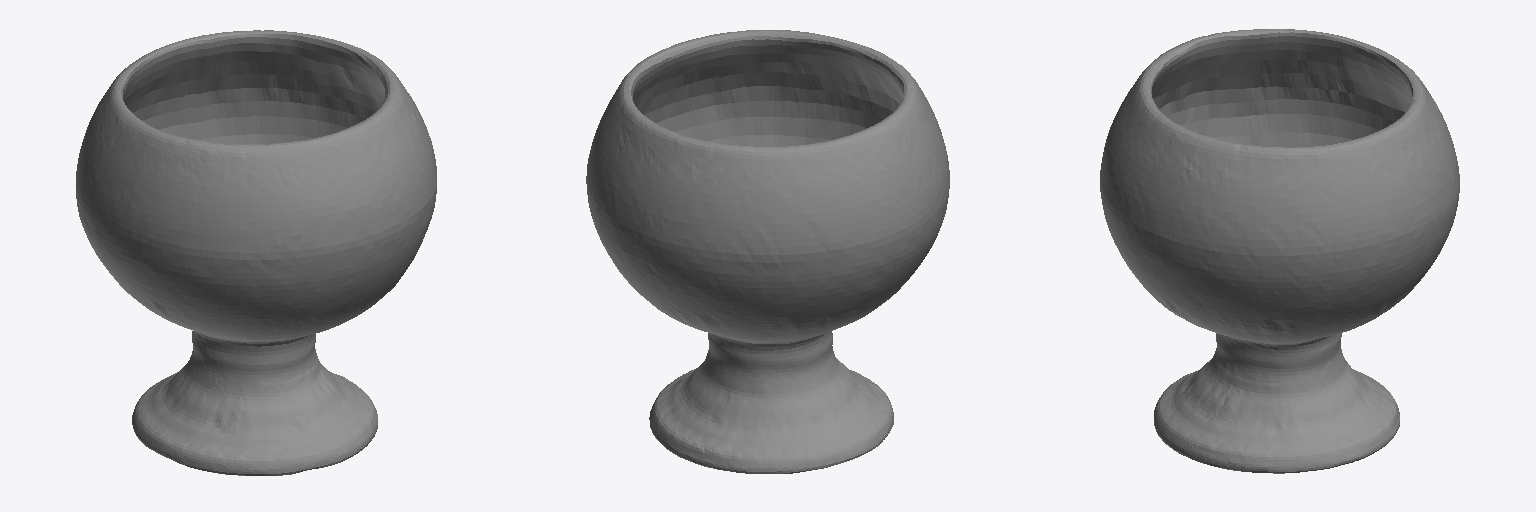
3 views of the same model, side by side, from view 1: azimuth 30°, elevation 25°; view 2: azimuth 150°, elevation 25°; view 3: azimuth 270°, elevation 25° (orthographic).
Parts seen in each view (by area): view 1: SZB_zb_12; view 2: SZB_zb_12; view 3: SZB_zb_12.
Part boxes in pixels (x1,y1,x2,y2): SZB_zb_12: (76,30,436,475); SZB_zb_12: (586,30,949,473); SZB_zb_12: (1100,29,1459,473).
Size of the model in its own units: 9.8 by 10.06 by 9.72.